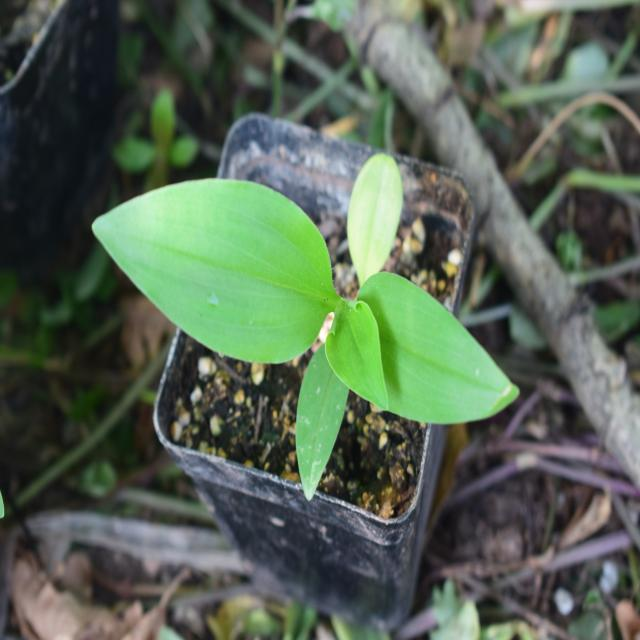Common Dayflower: (99, 167, 521, 467)
